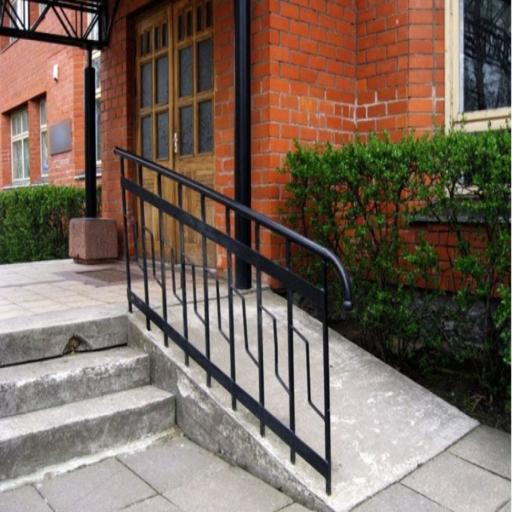child: (135, 0, 215, 265)
entrance: (129, 290, 477, 511)
laptop: (0, 346, 175, 482)
